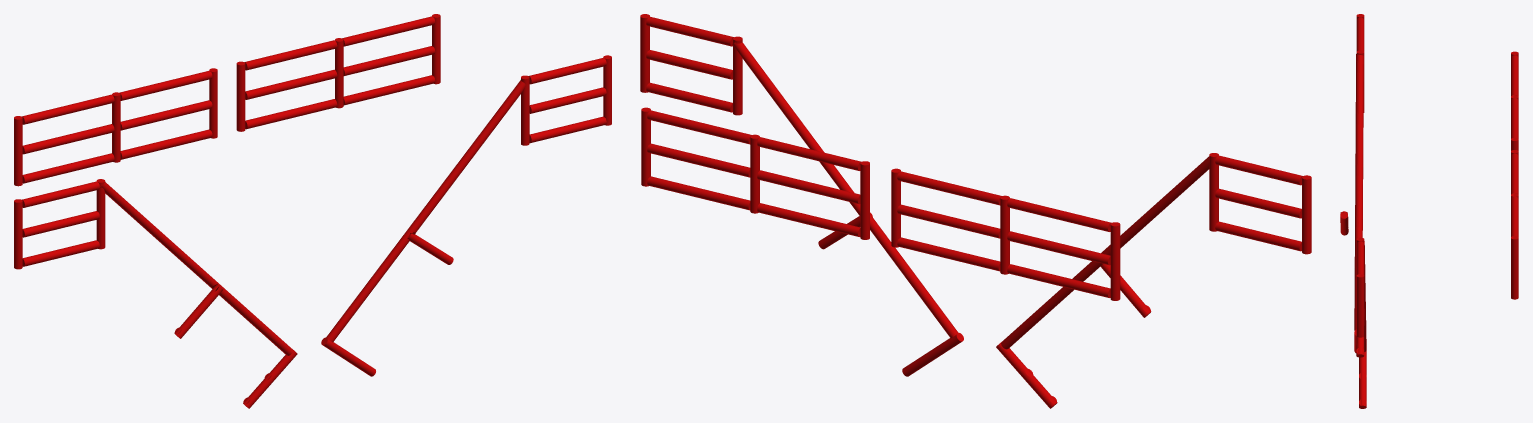
The model's file is railing.obj.
3 views of the same model, side by side, from view 1: azimuth 30°, elevation 25°; view 2: azimuth 150°, elevation 25°; view 3: azimuth 270°, elevation 25° (orthographic). The views are drawn at different scales.
Parts seen in each view (by area): view 1: Cylinder.009; view 2: Cylinder.009; view 3: Cylinder.009.
Boxes of the visible parts, x1,y1,x2,y2 form: Cylinder.009: (14,14,611,408); Cylinder.009: (640,14,1311,408); Cylinder.009: (1340,14,1518,408).
Bounding box in the file's own units: 25.18 × 10.59 × 7.21.
